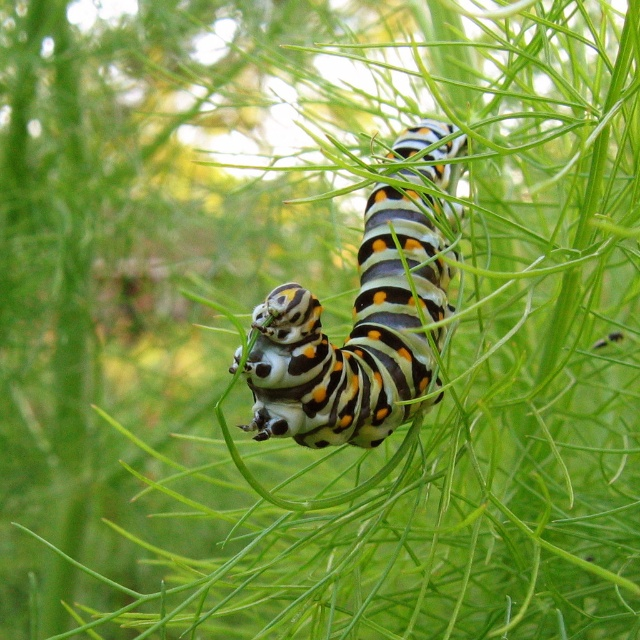Caterpillar: (227, 123, 474, 451)
